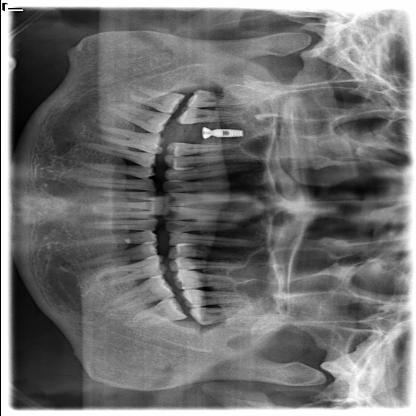Bicon: (211, 129, 246, 139)
